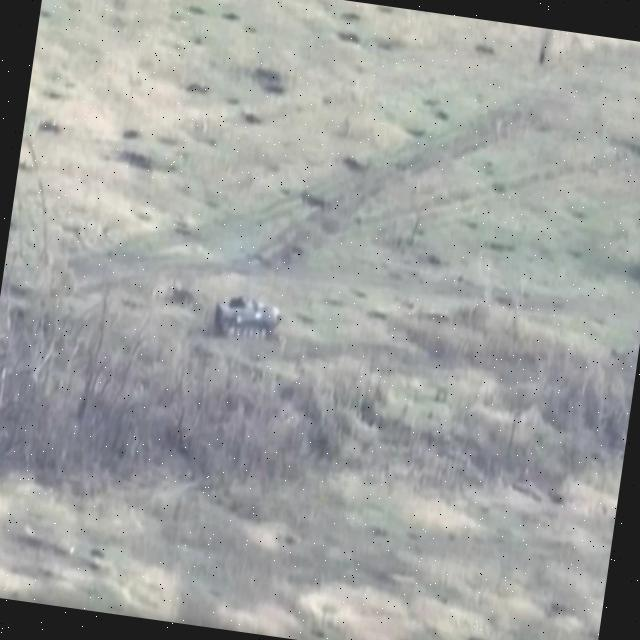AIFV: (211, 292, 287, 349)
